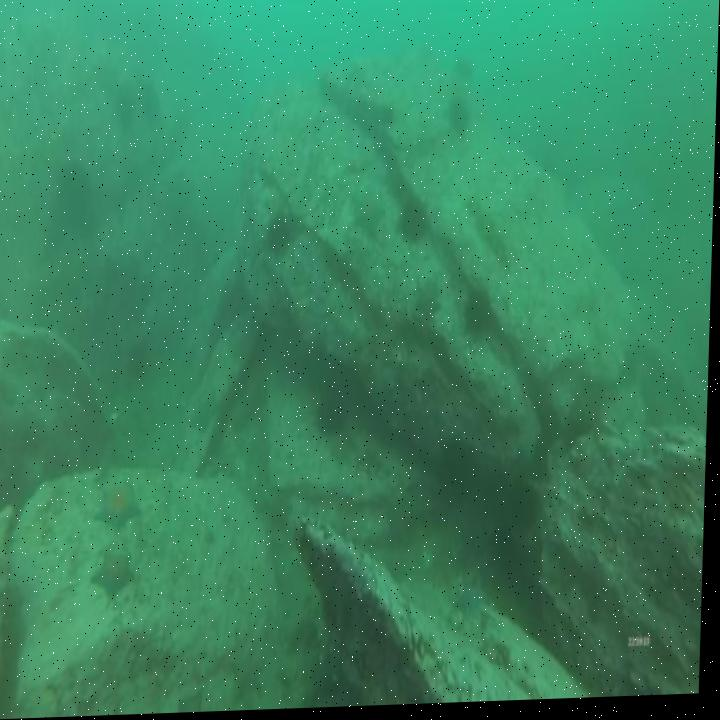echinus: (398, 201, 429, 248), (513, 485, 541, 536), (467, 291, 495, 338), (318, 391, 346, 433), (265, 221, 293, 261), (448, 97, 468, 135)
holothurian: (466, 200, 514, 272)
starfish: (99, 477, 144, 530), (99, 545, 136, 597), (356, 195, 386, 242), (459, 583, 491, 623), (413, 282, 442, 324)
